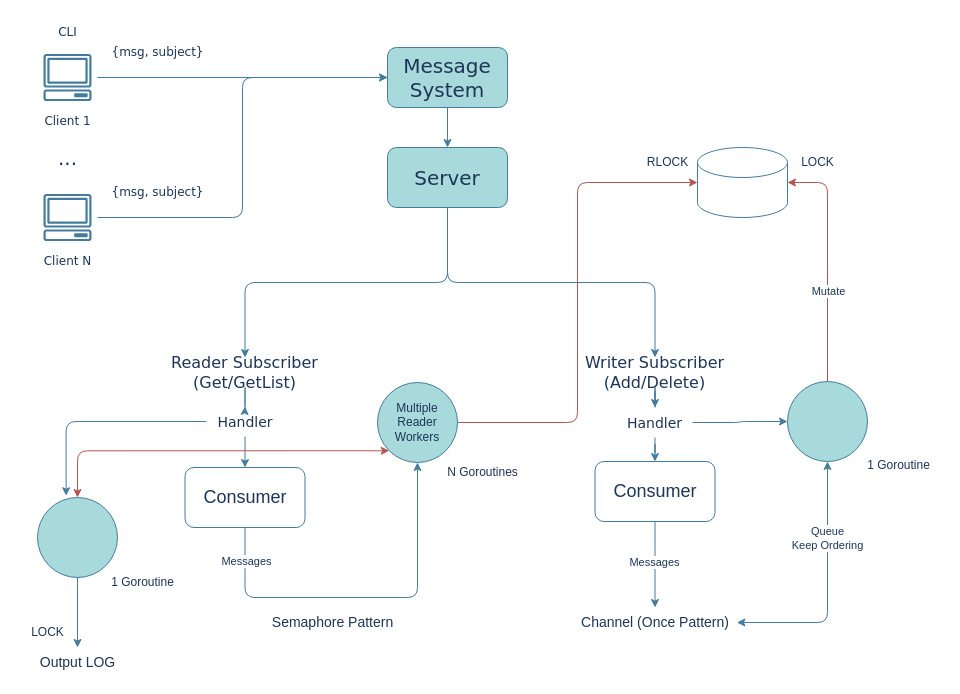
Some shapes in this 960 by 694 pixel diagram are drawn without their labels. The centre of each missing label's shape, as x and y in pixels:
FileWriter Worker: point 77,537
Single Mutator Worker: point 827,421
Store LinkedList: point 742,182
